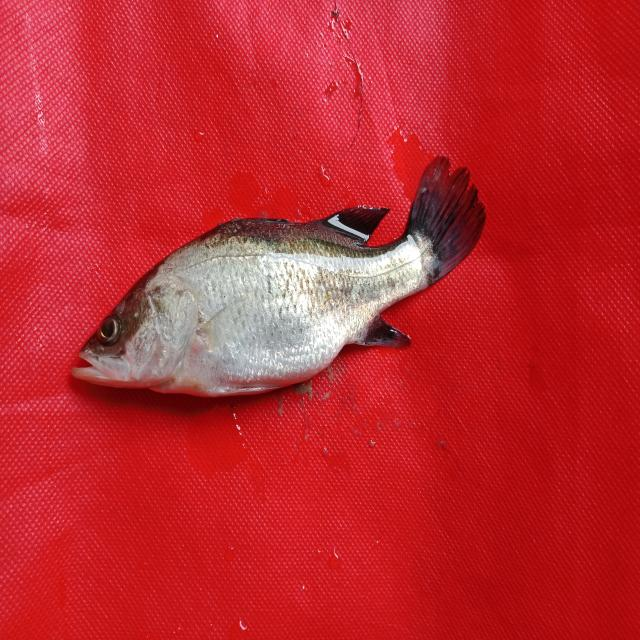ikan: (61, 139, 504, 434)
